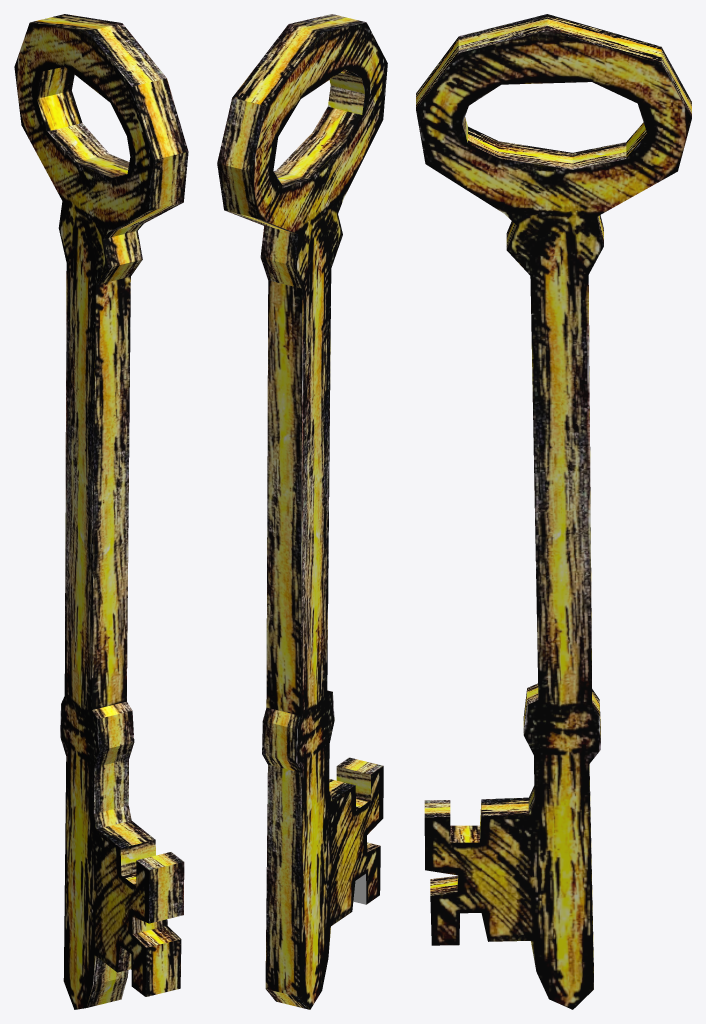
File: key.obj
3 views of the same model, side by side, from view 1: azimuth 30°, elevation 25°; view 2: azimuth 150°, elevation 25°; view 3: azimuth 270°, elevation 25° (orthographic). The views are drawn at different scales.
Visible parts, largest first — view 1: Plane; view 2: Plane; view 3: Plane.
Part boxes in pixels (<box>): Plane: <box>14,14,188,1009</box>; Plane: <box>217,14,387,1009</box>; Plane: <box>416,14,691,1009</box>.
Size of the model in its own units: 0.0676 by 1.82 by 0.4656.
Materials: 1 (1 with a texture image).
